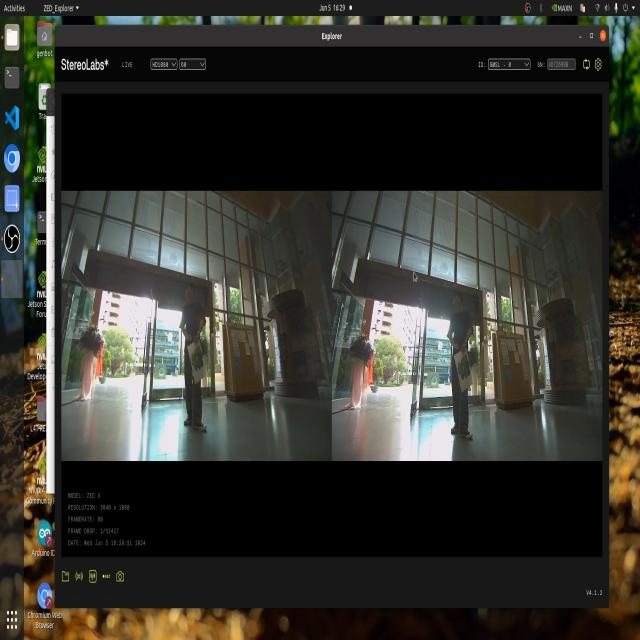green: (185, 342, 212, 373)
